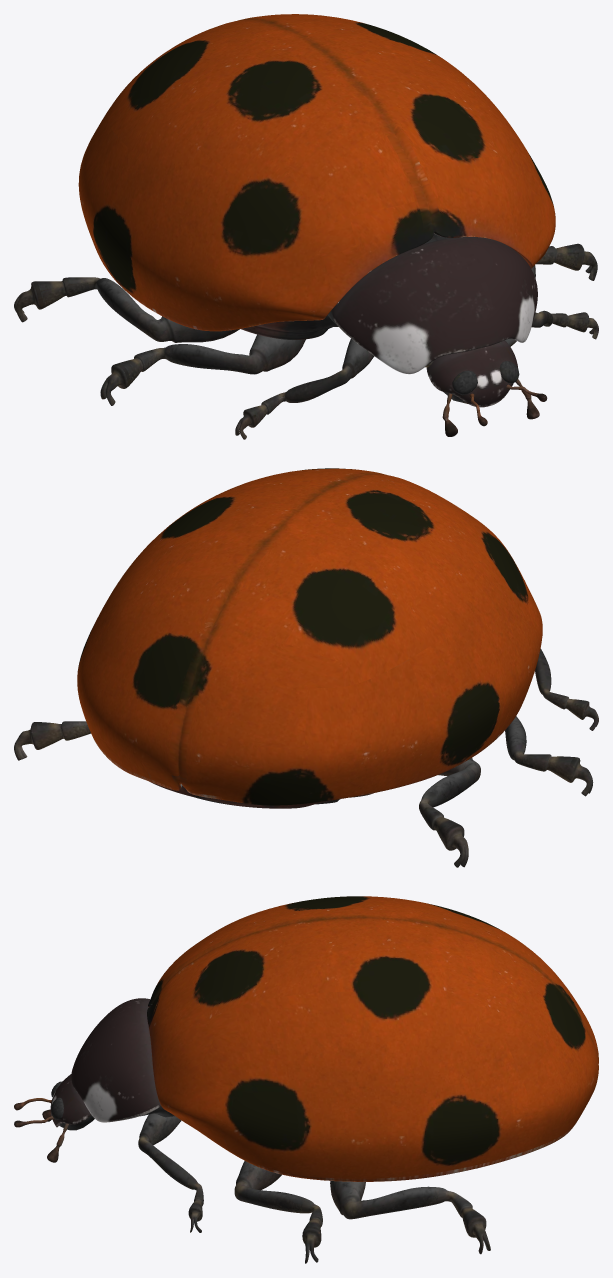
File: ladybug.glb
The picture shows the model from 3 angles, top to bottom: view 1: azimuth 30°, elevation 25°; view 2: azimuth 150°, elevation 25°; view 3: azimuth 270°, elevation 25°; orthographic projection. The views are drawn at different scales.
Parts seen in each view (by area): view 1: Shell Neck.002; view 2: Shell Neck.002; view 3: Shell Neck.002.
Part boxes in pixels (x1,y1,x2,y2): Shell Neck.002: (14, 14, 598, 439); Shell Neck.002: (14, 468, 598, 867); Shell Neck.002: (14, 896, 598, 1263).
Size of the model in its own units: 250 by 129 by 284.
Materials: 1 (1 with a texture image).
